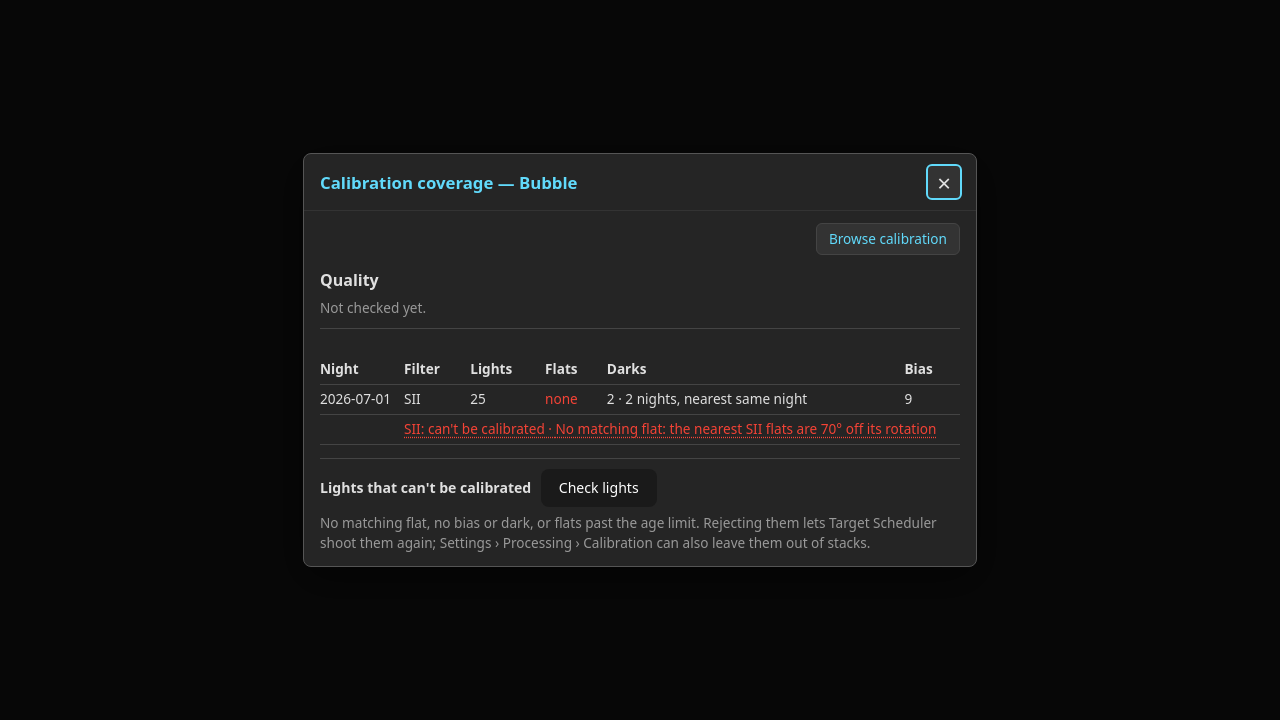
Test: CalibrationReportDialog › names the nights stacks leave out, then rejects the lights after a check
The width and height of the screenshot is (1280, 720).
Expected: the button "SII: can't be calibrated · No matching flat: the nearest SII flats are 70° off its rotation" is shown, left=404, top=419, right=936, bottom=440
What coordinates should you click on to do the following:
click the button "Check lights"
I would click on:
 (599, 488)
Its box is left=541, top=469, right=657, bottom=506.
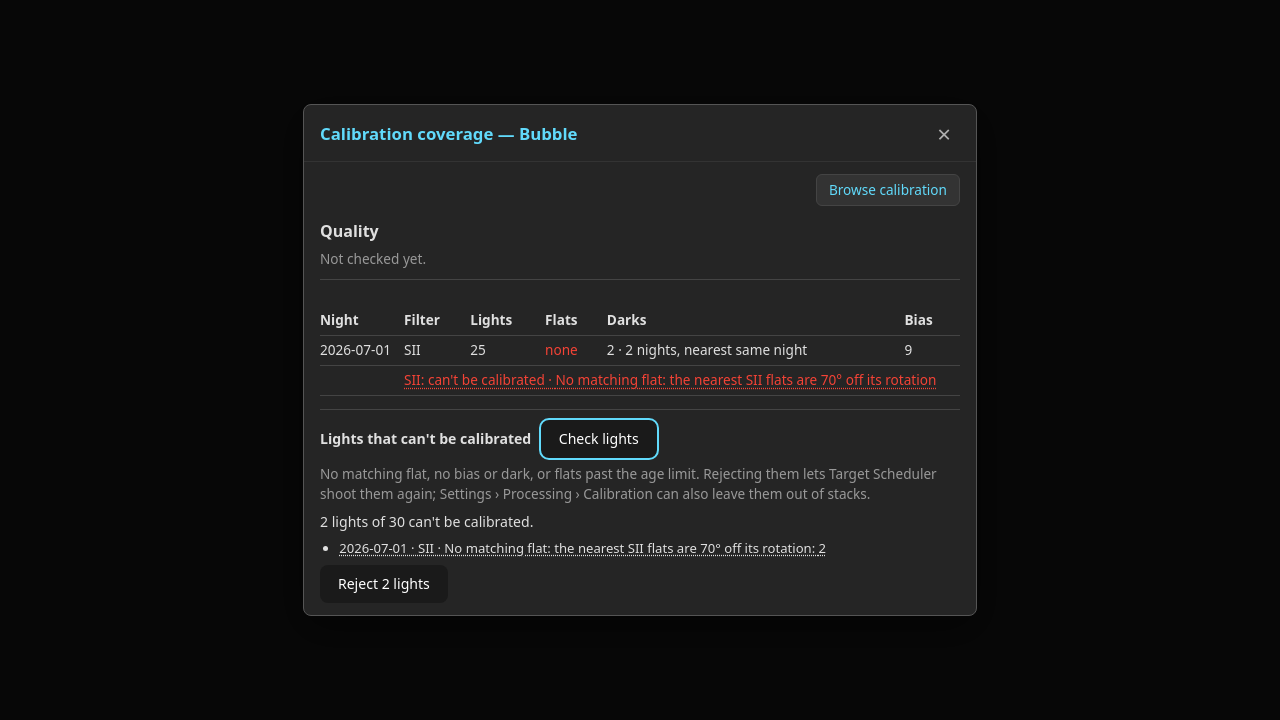
Now the text "2 lights of 30 can't be calibrated." is shown, box left=320, top=512, right=534, bottom=531
Now the button "2026-07-01 · SII · No matching flat: the nearest SII flats are 70° off its rotation: 2" is shown, box left=339, top=539, right=826, bottom=558
What coordinates should you click on to do the following:
click the button "Reject 2 lights"
I would click on:
 (384, 584)
Its box is left=320, top=565, right=448, bottom=603.
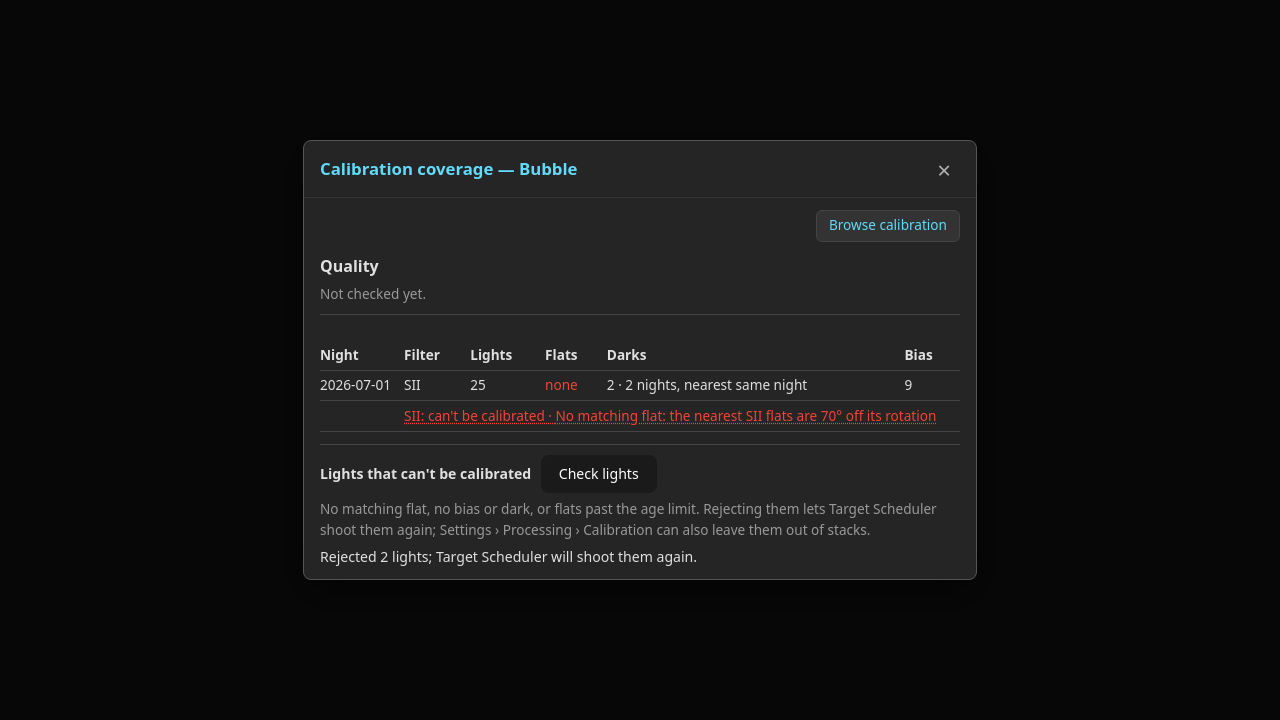
Now the message reads "Rejected 2 lights; Target Scheduler will shoot them again.", box left=320, top=547, right=697, bottom=566
